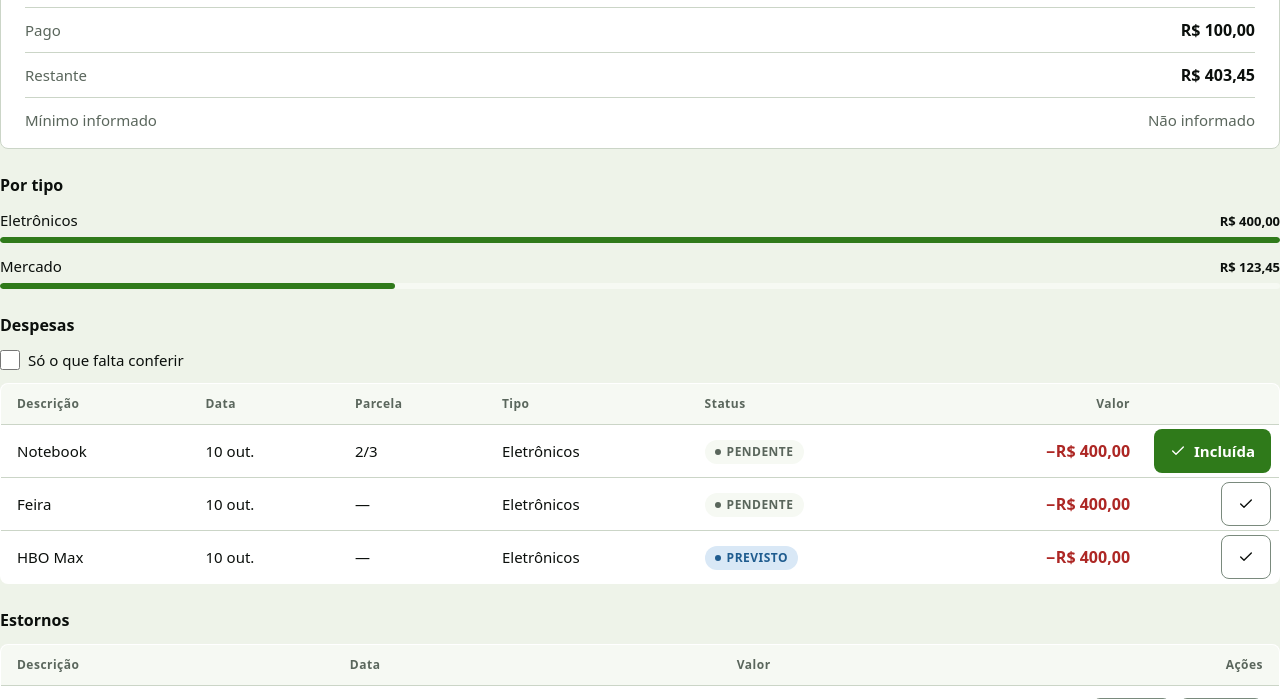
Test: conferência da fatura (spec 0020) › filters to what is left to check, from the switch and from ?conferir=1
The width and height of the screenshot is (1280, 699).
(page scrolled)
expect the link "Notebook" is shown: met, box [17,441,87,461]
Click the switch labelled "Só o que falta conferir".
click(10, 360)  # box [0,350,20,370]
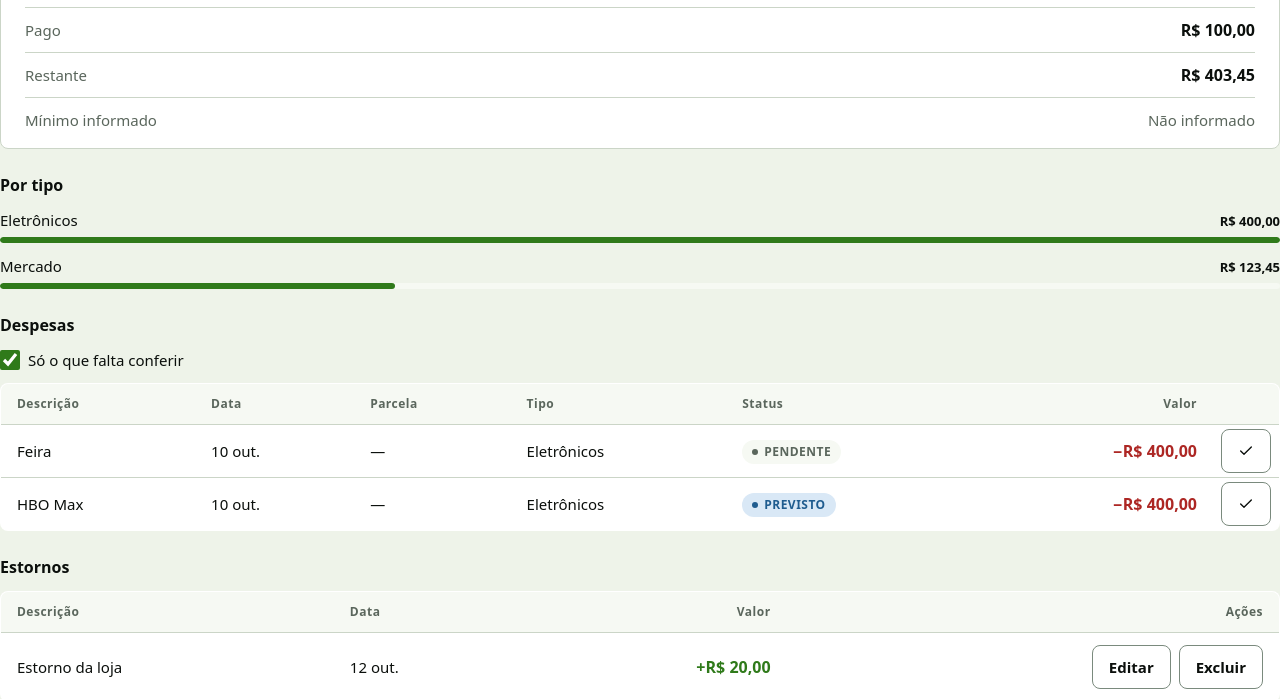
expect the link "Feira" is shown: met, box [17,441,51,461]
expect the link "Notebook" is gone: met
